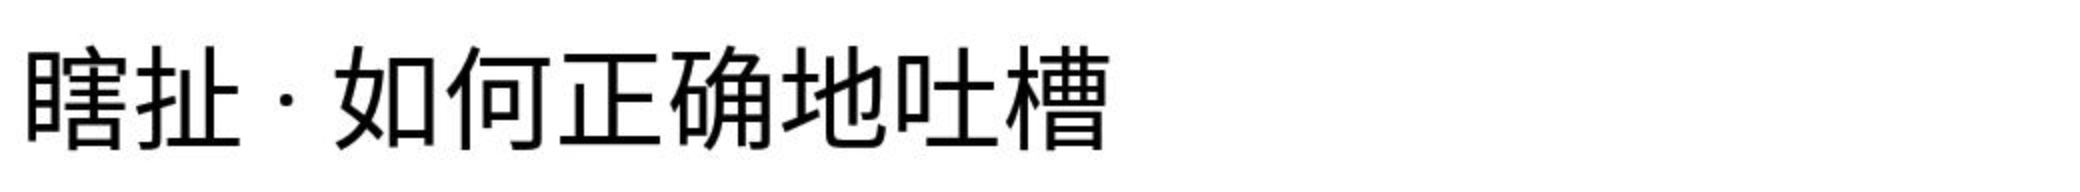TextView: (1, 1, 2079, 191)
